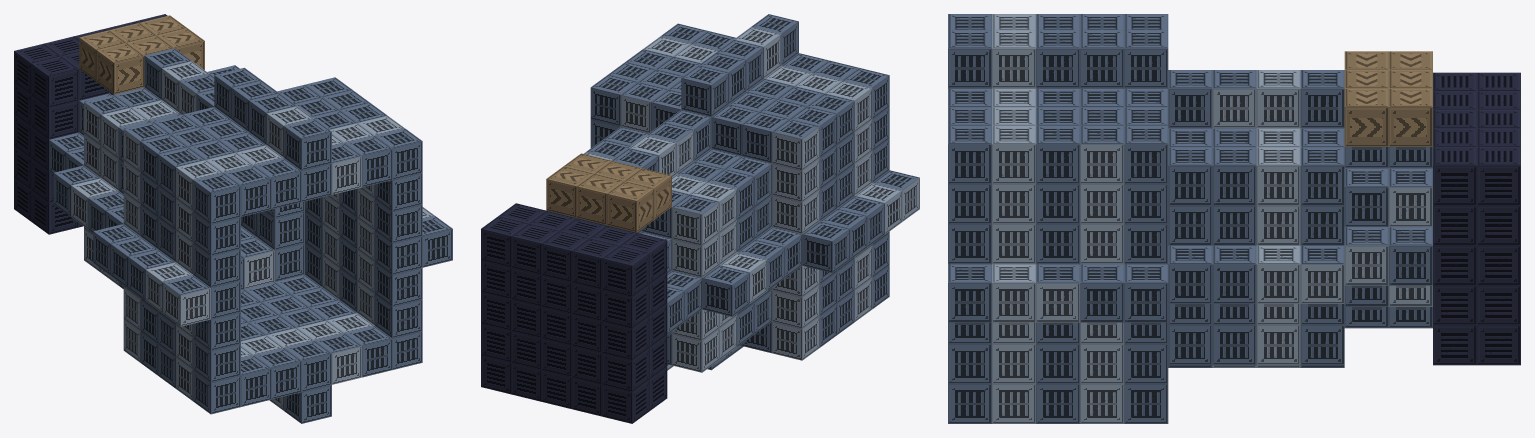
The model's file is engine_wreck.glb.
3 renders of one model, left to right at view 1: azimuth 30°, elevation 25°; view 2: azimuth 150°, elevation 25°; view 3: azimuth 270°, elevation 25°, orthographic. The views are drawn at different scales.
Parts seen in each view (by area): view 1: VF_engine_wreck_Body.002; view 2: VF_engine_wreck_Body.002; view 3: VF_engine_wreck_Body.002.
Part boxes in pixels (x1=…): VF_engine_wreck_Body.002: x1=14, y1=14, x2=452, y2=423; VF_engine_wreck_Body.002: x1=481, y1=14, x2=919, y2=423; VF_engine_wreck_Body.002: x1=948, y1=14, x2=1520, y2=423.
Size of the model in its own units: 2.52 by 2.52 by 3.64.
Materials: 4 (4 with a texture image).
